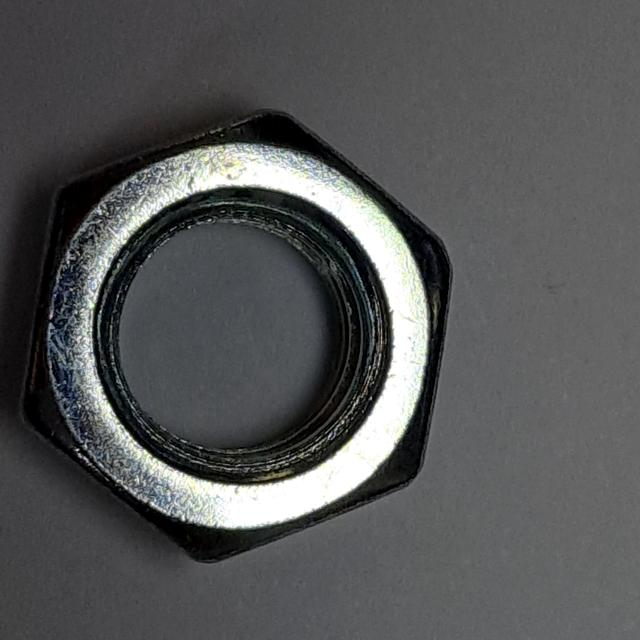Excellent: (15, 92, 462, 575)
